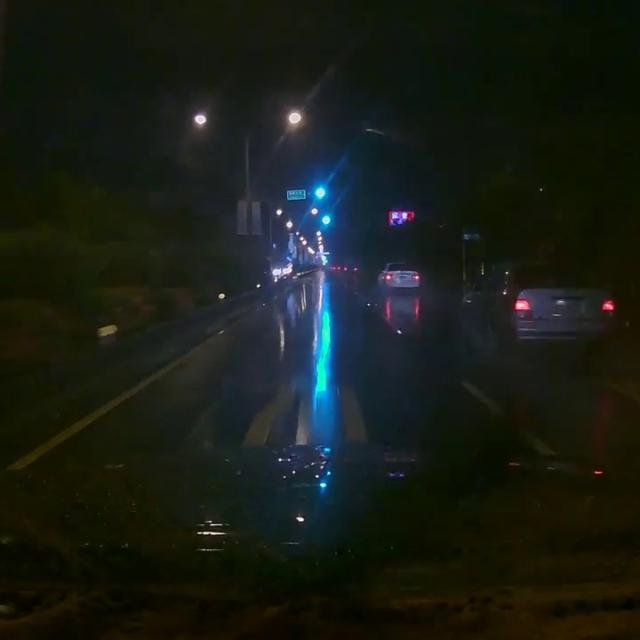Car: (458, 255, 617, 361), (376, 259, 419, 294)
